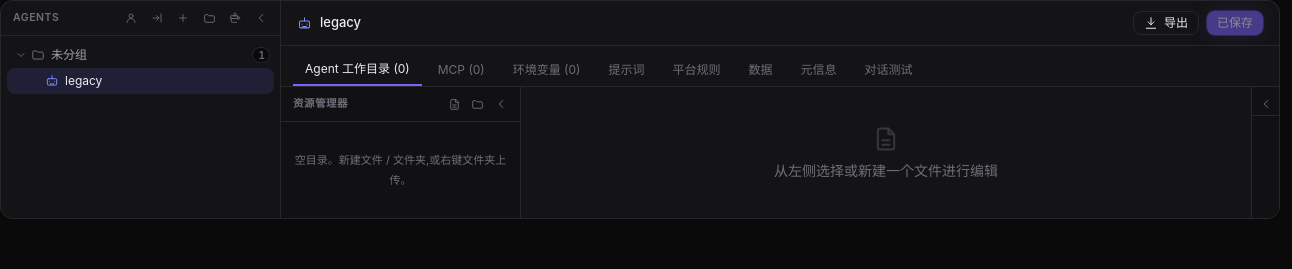
Test: AgentStudio MCP PM leader prefills › keeps mcp quick-add buttons at text-[11px] including artifact store
Click the button "MCP (0)".
click(461, 70)  # box [426,54,497,86]
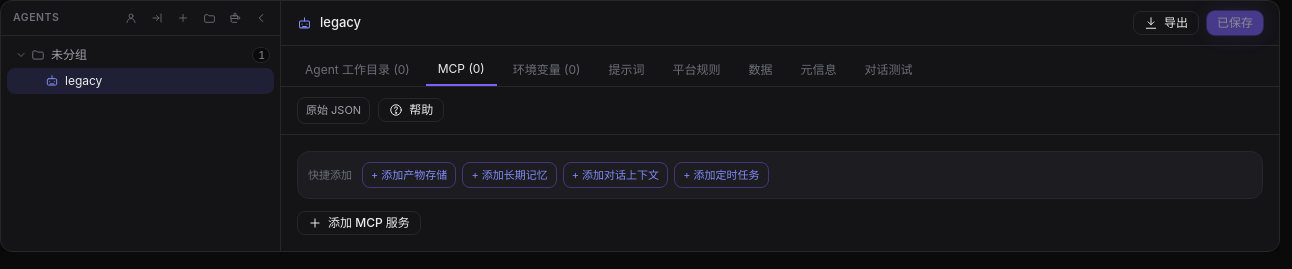
expect the button with test id "mcp-add-artifact" reads "+ 添加产物存储": met, box [362,162,456,188]
expect the button with test id "mcp-add-memory" reads "+ 添加长期记忆": met, box [462,162,557,188]
expect the button with test id "mcp-add-context" reads "+ 添加对话上下文": met, box [563,162,668,188]
